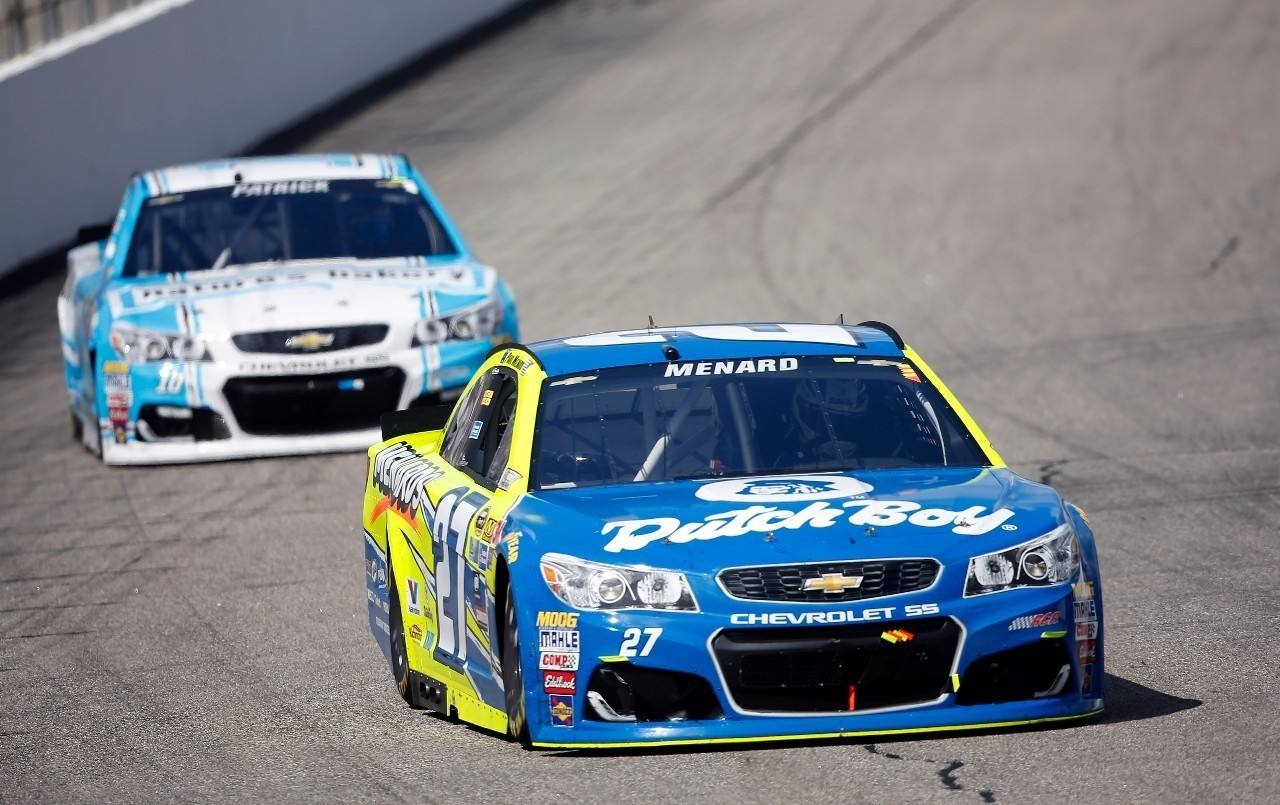racing car: (334, 319, 1129, 766), (44, 137, 540, 467)
